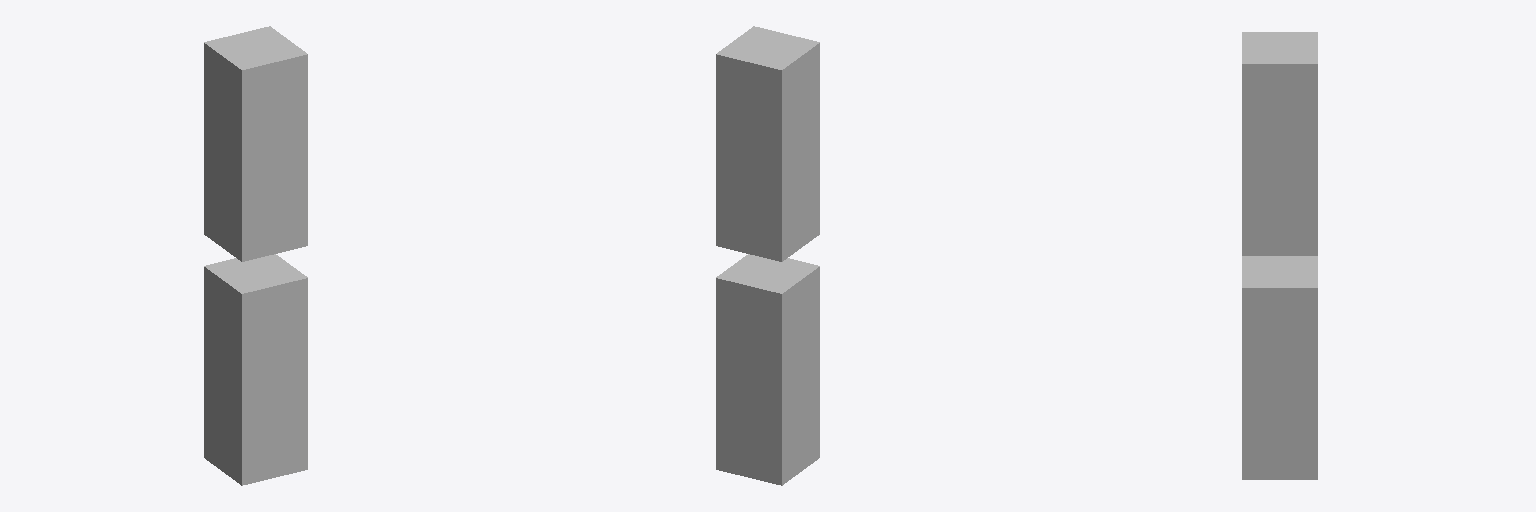
File: Cub.obj
The picture shows the model from 3 angles: view 1: azimuth 30°, elevation 25°; view 2: azimuth 150°, elevation 25°; view 3: azimuth 270°, elevation 25°; orthographic projection.
Parts seen in each view (by area): view 1: Cube.001, Cube; view 2: Cube.001, Cube; view 3: Cube, Cube.001.
Part boxes in pixels (left/top/right/bottom): Cube.001: left=204, top=26, right=307, bottom=261; Cube: left=204, top=254, right=307, bottom=485; Cube.001: left=716, top=26, right=819, bottom=261; Cube: left=716, top=254, right=819, bottom=485; Cube: left=1242, top=256, right=1317, bottom=479; Cube.001: left=1242, top=32, right=1317, bottom=255.
Bounding box in the file's own units: 0.8777 × 5.25 × 0.8777.